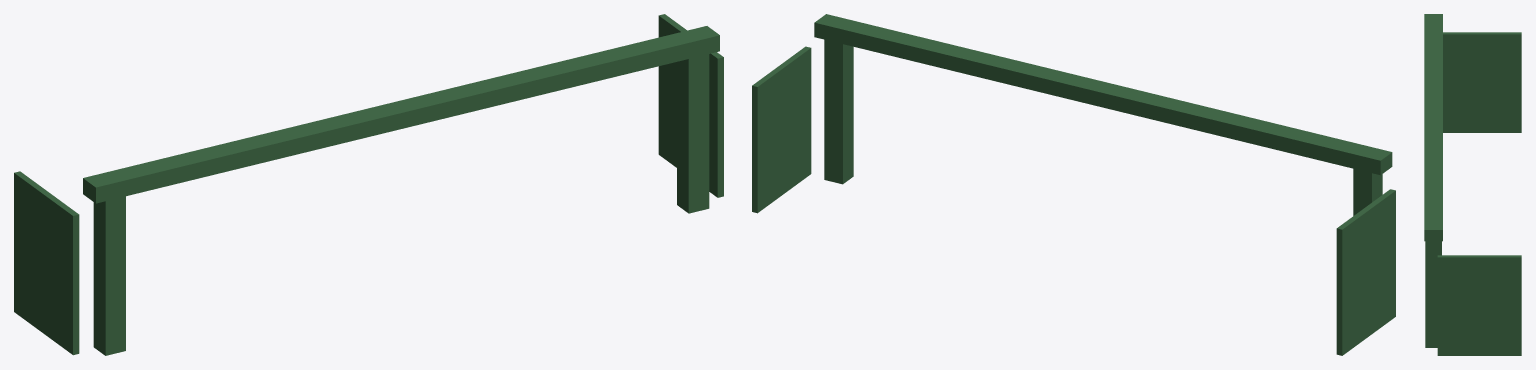
File: Gate.fbx
The picture shows the model from 3 angles, left to right: view 1: azimuth 30°, elevation 25°; view 2: azimuth 150°, elevation 25°; view 3: azimuth 270°, elevation 25°; orthographic projection. The views are drawn at different scales.
Parts seen in each view (by area): view 1: GatePillar-1.001; view 2: GatePillar-1.001; view 3: GatePillar-1.001.
Part boxes in pixels (left/top/right/bottom): GatePillar-1.001: left=14, top=14, right=723, bottom=355; GatePillar-1.001: left=752, top=14, right=1395, bottom=355; GatePillar-1.001: left=1424, top=14, right=1521, bottom=355.
Size of the model in its own units: 12720 by 3200 by 2320.
